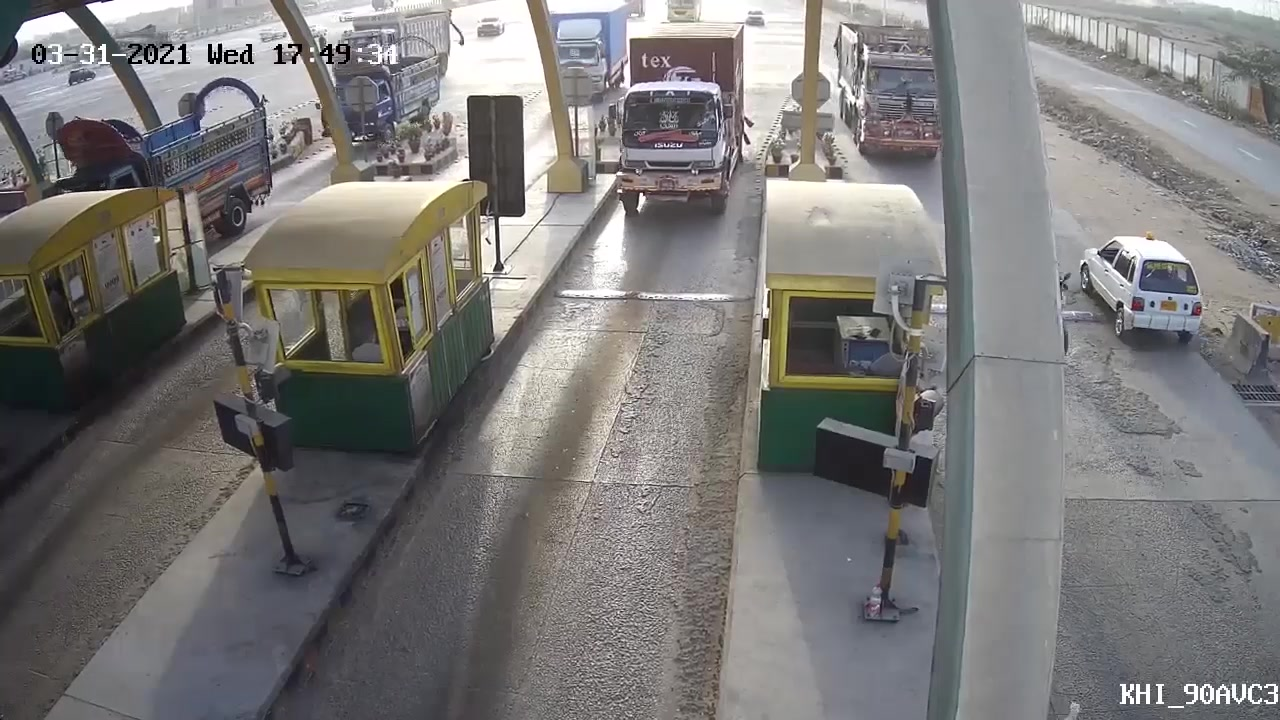F5: (596, 17, 755, 239)
